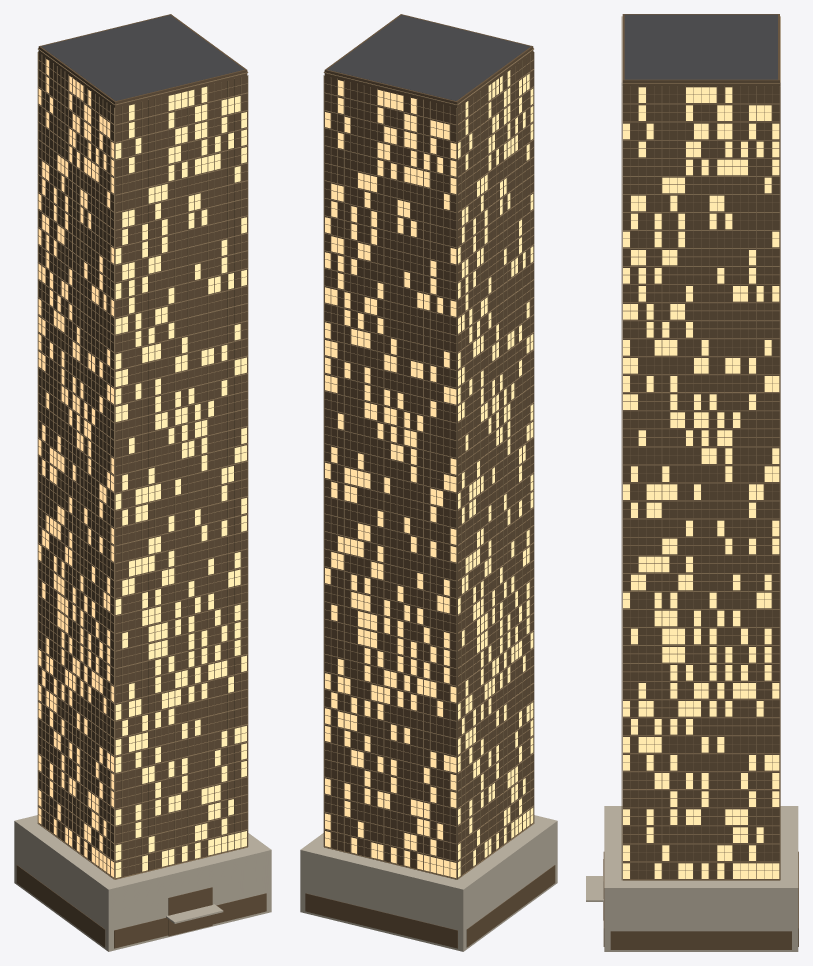
File: t_curtain_twin_b_44.glb
The picture shows the model from 3 angles, left to right: view 1: azimuth 30°, elevation 25°; view 2: azimuth 150°, elevation 25°; view 3: azimuth 270°, elevation 25°; orthographic projection. The views are drawn at different scales.
Visible parts, largest first — view 1: t_curtain_twin_b_44; view 2: t_curtain_twin_b_44; view 3: t_curtain_twin_b_44.
Part boxes in pixels (<box>): t_curtain_twin_b_44: <box>14,14,271,951</box>; t_curtain_twin_b_44: <box>300,14,557,951</box>; t_curtain_twin_b_44: <box>586,14,798,951</box>.
Size of the model in its own units: 37.28 by 182 by 40.64.
